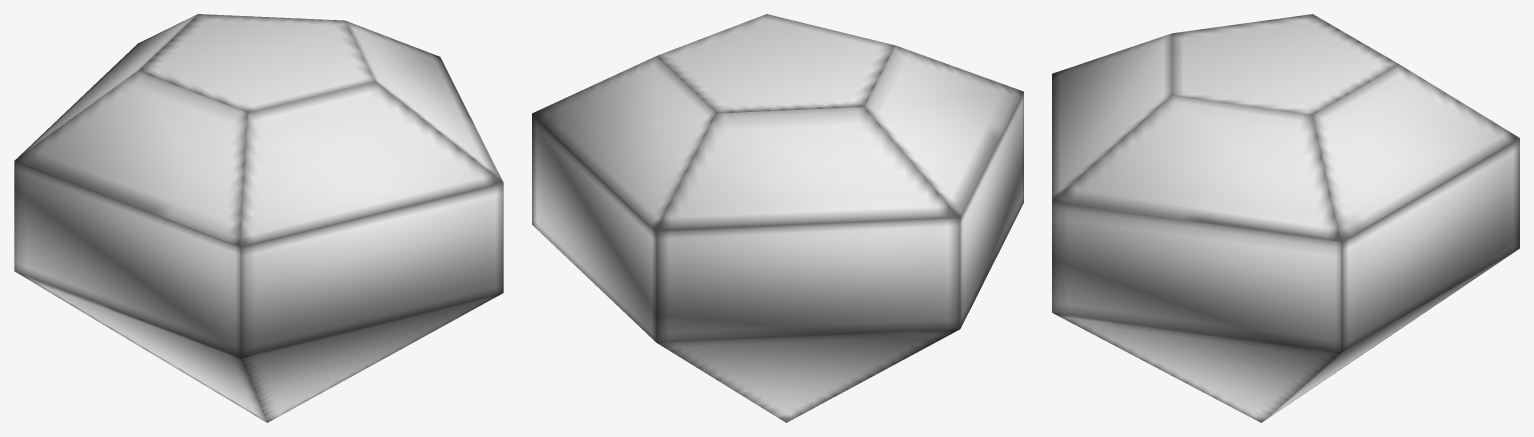
Rendered from Diamond-01.fbx.
3 views of the same model, side by side, from view 1: azimuth 30°, elevation 25°; view 2: azimuth 150°, elevation 25°; view 3: azimuth 270°, elevation 25° (orthographic).
Parts seen in each view (by area): view 1: Diamond-01; view 2: Diamond-01; view 3: Diamond-01.
Part boxes in pixels (left/top/right/bottom): Diamond-01: left=14, top=14, right=503, bottom=422; Diamond-01: left=532, top=14, right=1023, bottom=422; Diamond-01: left=1052, top=14, right=1519, bottom=422.
Bounding box in the file's own units: 0.3022 × 0.243 × 0.2874.
